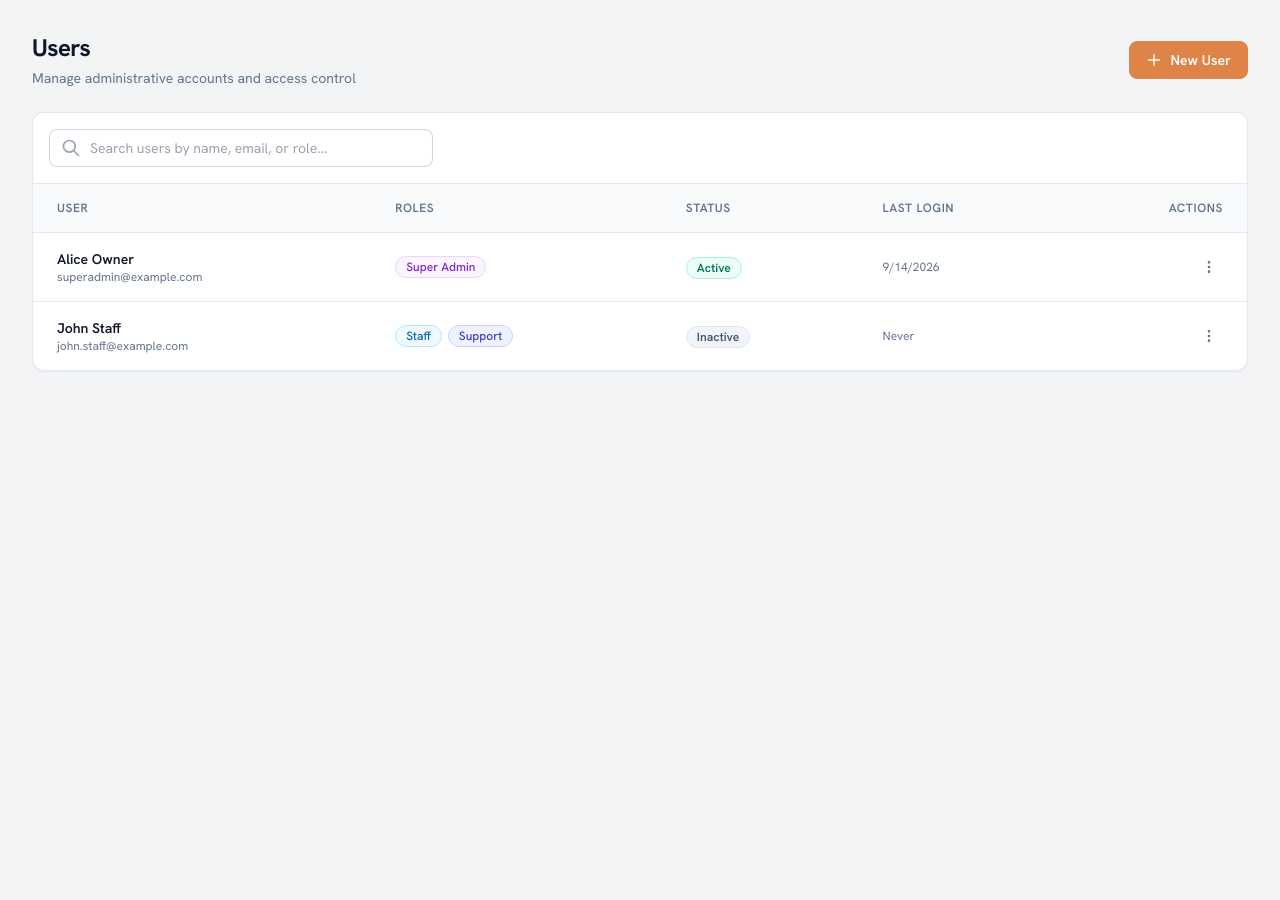
Test case: SystemUsersPage › opens the create user modal when New User button is clicked
Expected: the text "Super Admin" is shown, [395,256,486,278]
Click the button "New User": click(1189, 60) [1130,41,1248,79]
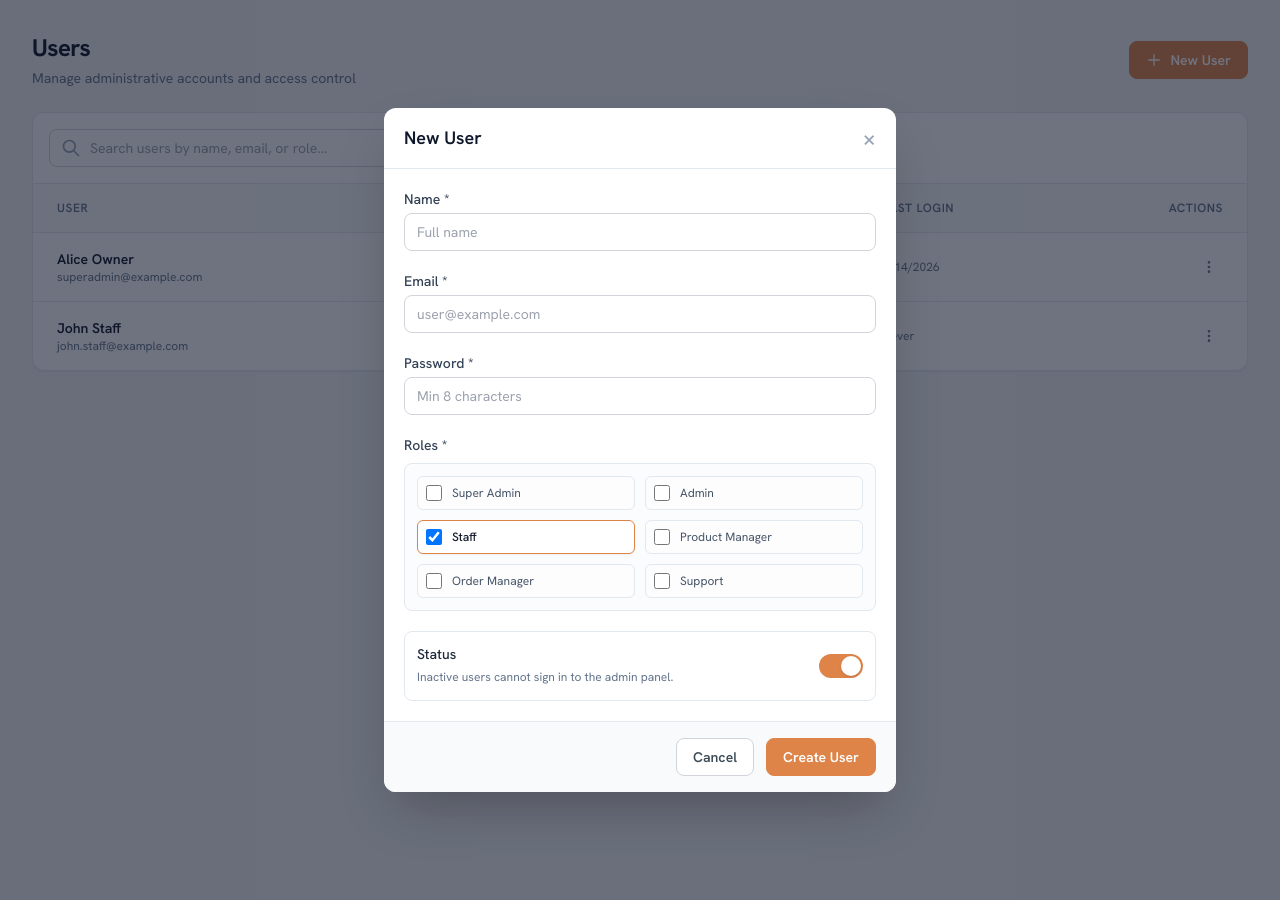
Expected: the dialog is shown, [384,108,896,792]
Expected: the heading "New User" is shown, [404,124,482,152]
